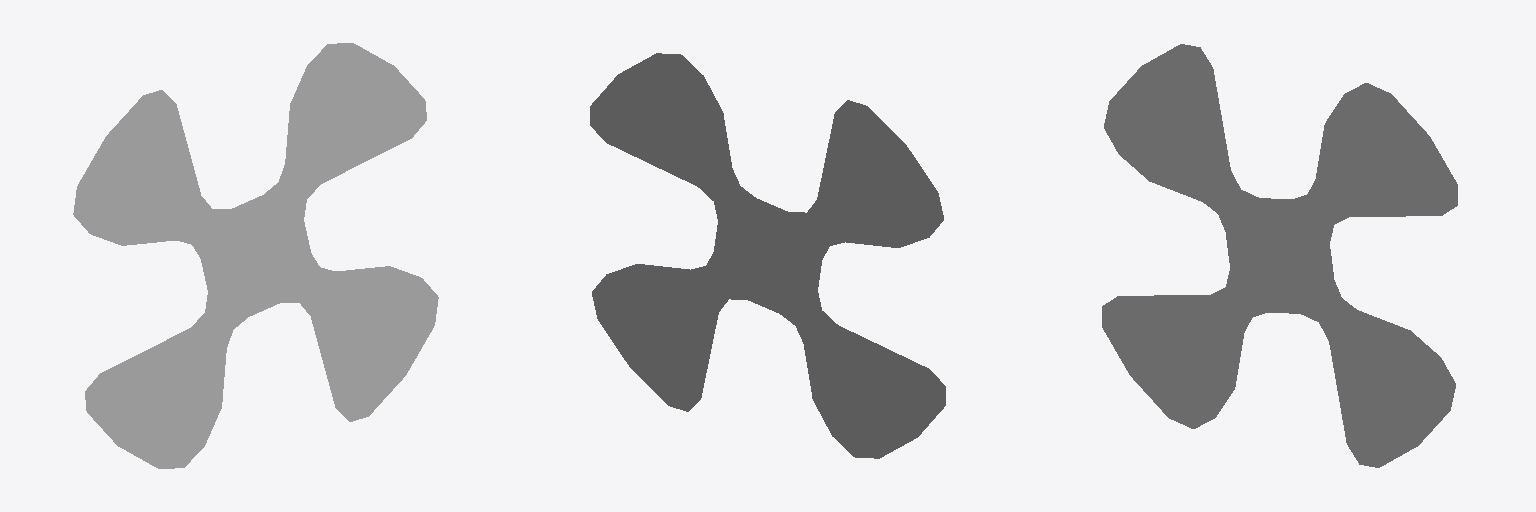
File: original-38.obj
The picture shows the model from 3 angles: view 1: azimuth 30°, elevation 25°; view 2: azimuth 150°, elevation 25°; view 3: azimuth 330°, elevation 25°; orthographic projection.
Visible parts, largest first — view 1: #ID1358; view 2: #ID1358; view 3: #ID1358.
Part boxes in pixels (x1,y1,x2,y2): #ID1358: (73,43,438,468); #ID1358: (590,53,945,458); #ID1358: (1102,44,1457,467).
Bounding box in the file's own units: 0.0549 × 0.0547 × 0.0038.